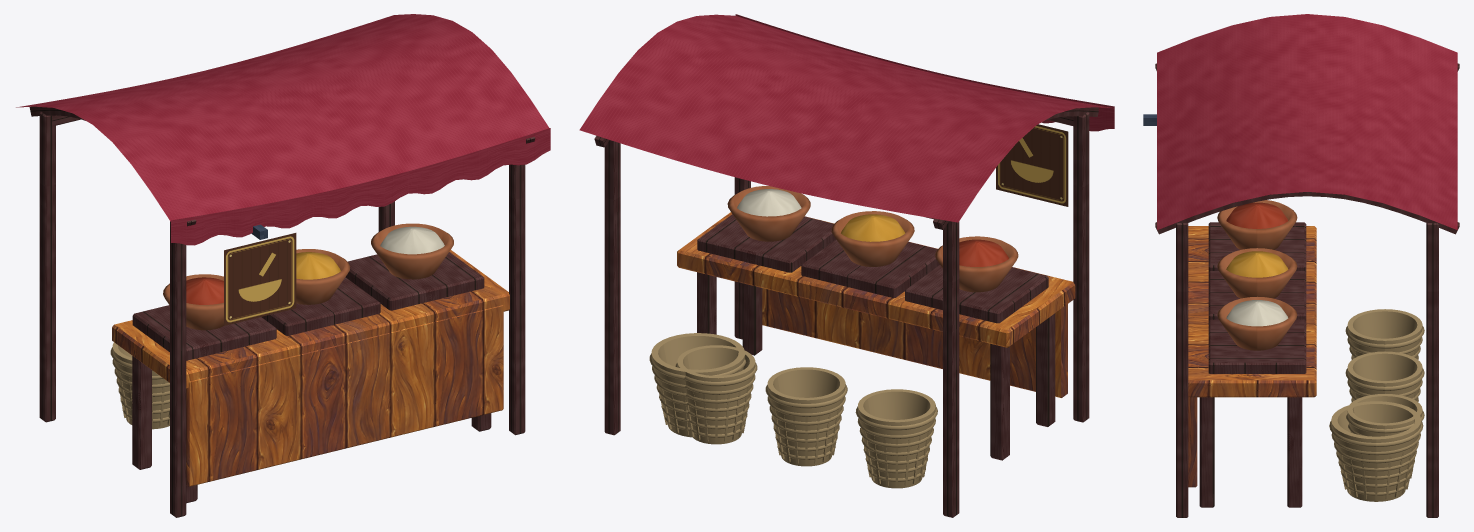
Rendered from Spice_Stall.fbx.
The picture shows the model from 3 angles, left to right: view 1: azimuth 30°, elevation 25°; view 2: azimuth 150°, elevation 25°; view 3: azimuth 270°, elevation 25°; orthographic projection. The views are drawn at different scales.
Parts seen in each view (by area): view 1: Draped stitched awning.008, Counter front.008, Scalloped canvas hem.008, Counter top.008, Painted shop sign.008, Canopy post.033, Canopy post.032, Canopy post.034, Display tray.026, Display tray.024, Display tray.025, Spice bowl.002 (+7 smaller); view 2: Draped stitched awning.008, Counter front.008, Counter top.008, Canopy post.032, Canopy post.033, Canopy post.035, Painted shop sign.008, Woven basket body.008, Woven basket body.007, Display tray.026, Display tray.025, Display tray.024 (+14 smaller); view 3: Draped stitched awning.008, Counter top.008, Woven basket body.010, Canopy post.034, Canopy post.035, Display tray.026, Woven basket body.007, Woven basket body.008, Spice bowl.002, Spice bowl.001, Display tray.025, Display tray.024 (+11 smaller).
Part boxes in pixels (x1,y1,x2,y2): Draped stitched awning.008: (16, 14, 549, 221); Counter front.008: (186, 305, 503, 486); Scalloped canvas hem.008: (171, 128, 550, 245); Counter top.008: (112, 250, 509, 388); Painted shop sign.008: (224, 233, 296, 325); Canopy post.033: (39, 111, 55, 422); Canopy post.032: (170, 221, 186, 517); Canopy post.034: (509, 164, 525, 435); Display tray.026: (345, 252, 484, 310); Display tray.024: (132, 305, 276, 360); Display tray.025: (261, 277, 380, 335); Spice bowl.002: (371, 223, 453, 279); Draped stitched awning.008: (579, 14, 1113, 222); Counter front.008: (762, 288, 1067, 397); Counter top.008: (677, 212, 1075, 347); Canopy post.032: (1073, 112, 1089, 422); Canopy post.033: (943, 221, 959, 517); Canopy post.035: (604, 140, 620, 435); Painted shop sign.008: (996, 124, 1068, 206); Woven basket body.008: (767, 367, 845, 466); Woven basket body.007: (858, 389, 935, 488); Display tray.026: (697, 214, 835, 272); Display tray.025: (801, 239, 939, 297); Display tray.024: (905, 265, 1048, 323); Draped stitched awning.008: (1157, 14, 1457, 230); Counter top.008: (1188, 226, 1316, 397); Woven basket body.010: (1331, 401, 1421, 501); Canopy post.034: (1176, 223, 1188, 517); Canopy post.035: (1426, 223, 1438, 517); Display tray.026: (1208, 319, 1306, 373); Woven basket body.007: (1347, 309, 1422, 358); Woven basket body.008: (1347, 351, 1422, 400); Spice bowl.002: (1217, 296, 1297, 350); Spice bowl.001: (1217, 248, 1297, 298); Display tray.025: (1208, 271, 1306, 320); Display tray.024: (1208, 222, 1306, 272).
Size of the model in its own units: 336 by 294 by 253.
